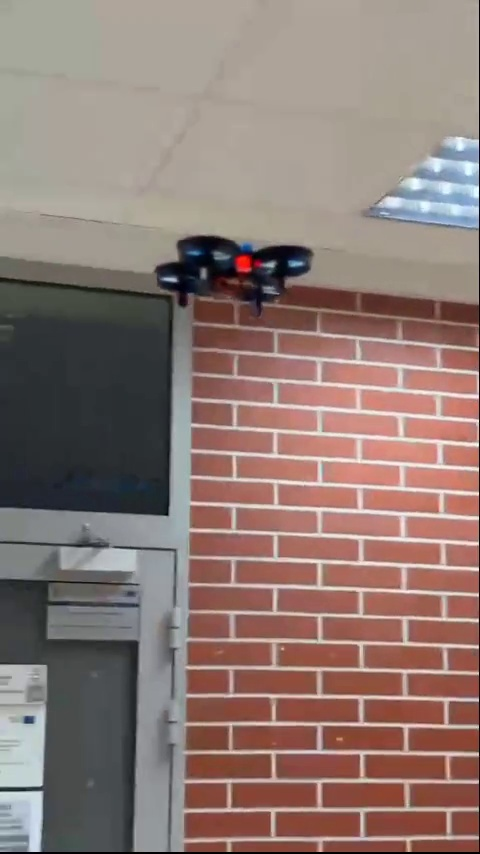drone: (161, 232, 317, 309)
